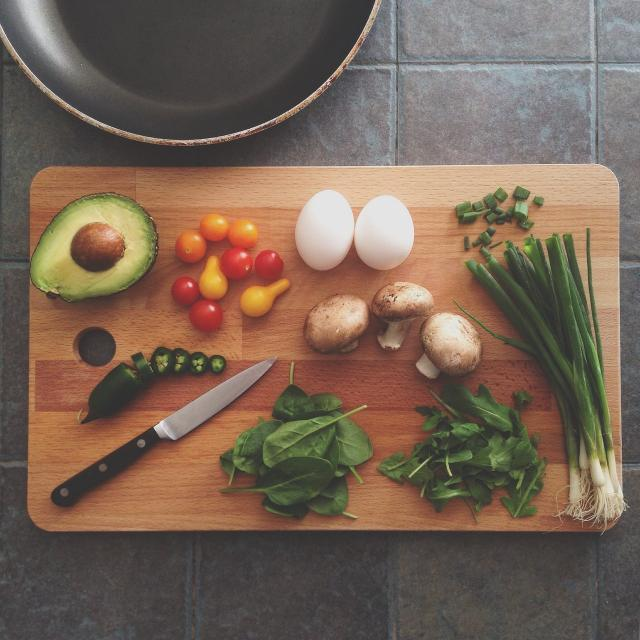Knife: (51, 358, 276, 506)
